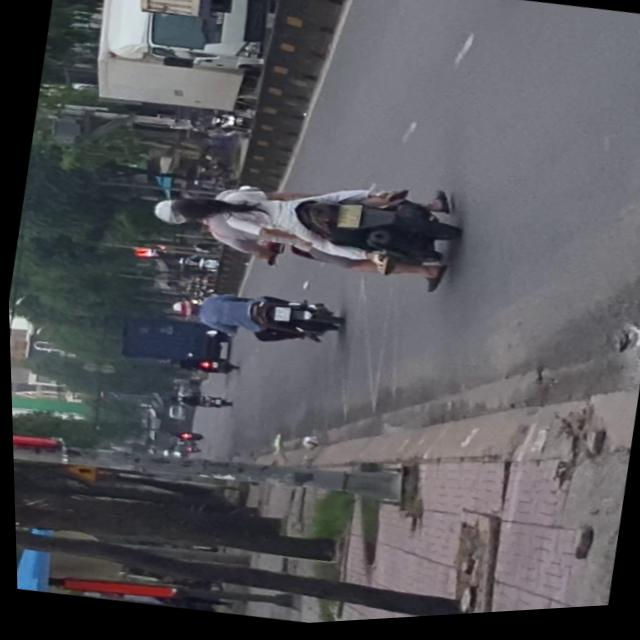helmet: (147, 193, 185, 228)
licenseplate: (138, 145, 465, 307)
motorcyclist: (168, 191, 225, 230)
nohelmet: (332, 205, 357, 231)
